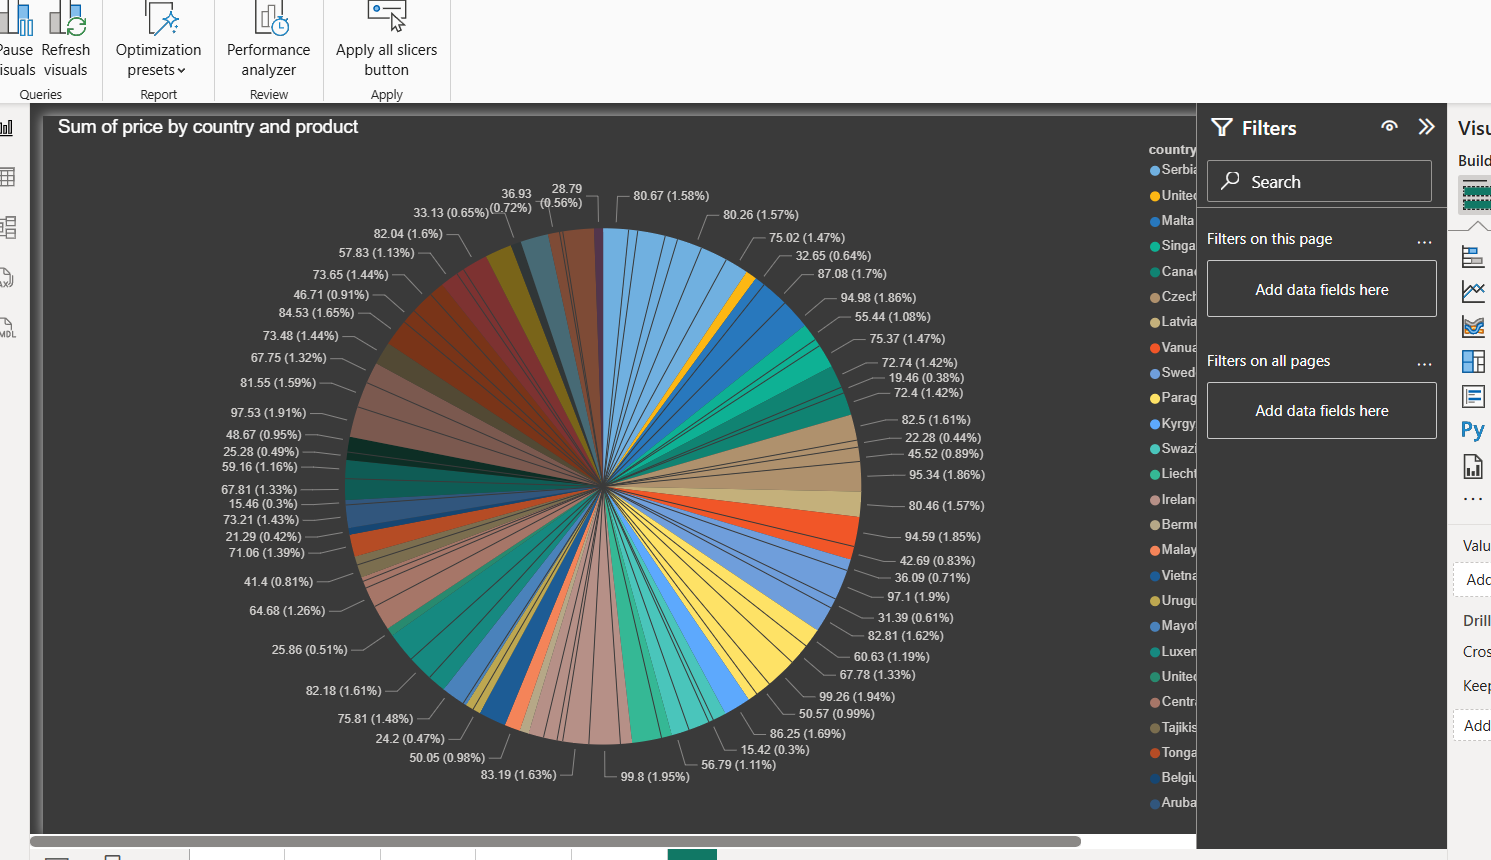

This screenshot's page, from the dashboard's own definition file:
{"tool":"powerbi","page":{"name":"Page 5","canvas":[1280,720],"ordinal":4},"visuals":[{"type":"pieChart","fields":{"Category":["run-1752526286075-part-r-00000.country"],"Series":["run-1752526286075-part-r-00000.product"],"Y":["Sum(run-1752526286075-part-r-00000.price)"]},"box":[9.6,0,1270.7,720.4],"z":0}]}

Visuals, with their boxes on the page's 1280x720 design canvas (x1, y1, x2, y2). These are canvas units, not pixel positions in the 1491x860 screenshot, which may show the page scaled, cropped or inside an application window:
pieChart - run-1752526286075-part-r-00000.country x run-1752526286075-part-r-00000.product: crop(10, 0, 1280, 720)
